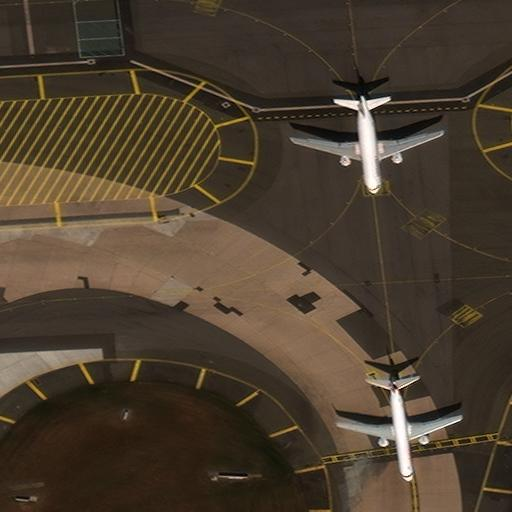Medium Civil Transport: (291, 94, 443, 193), (335, 375, 462, 482)
